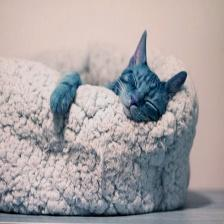kedo: (114, 31, 186, 122)
